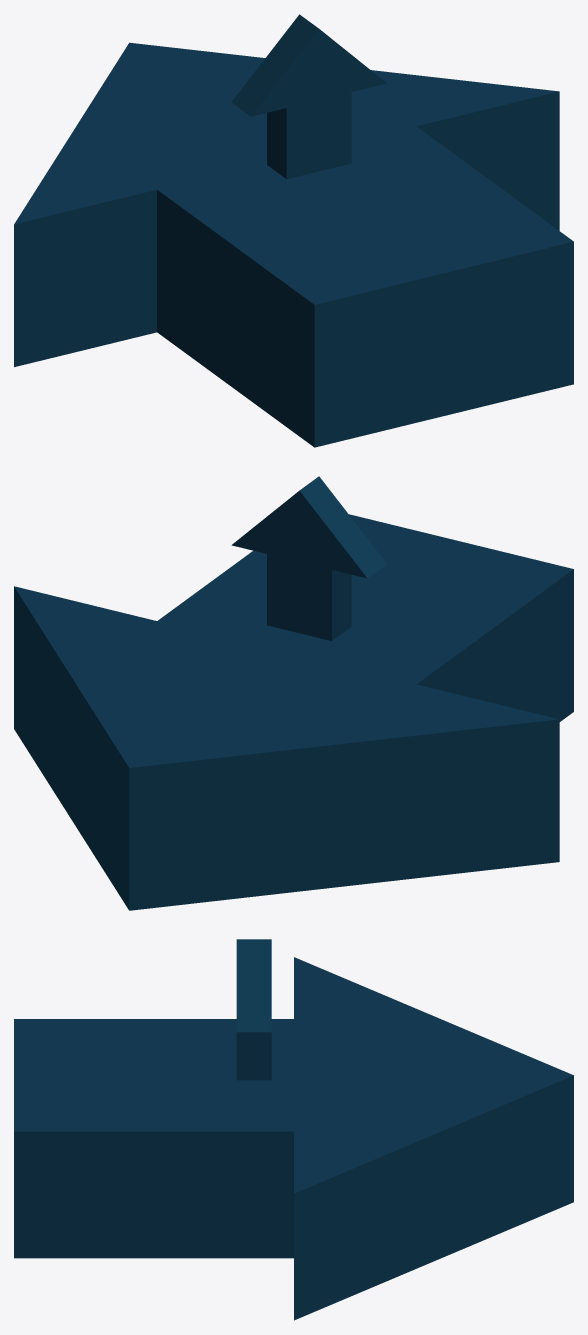
File: Arrow.fbx
3 renders of one model, top to bottom at view 1: azimuth 30°, elevation 25°; view 2: azimuth 150°, elevation 25°; view 3: azimuth 270°, elevation 25°, orthographic. The views are drawn at different scales.
Visible parts, largest first — view 1: Cube; view 2: Cube; view 3: Cube.
Boxes of the visible parts, left/top/right/bottom form: Cube: left=14, top=14, right=573, bottom=447; Cube: left=14, top=476, right=573, bottom=910; Cube: left=14, top=939, right=573, bottom=1320.
Size of the model in its own units: 200 by 104 by 200.
